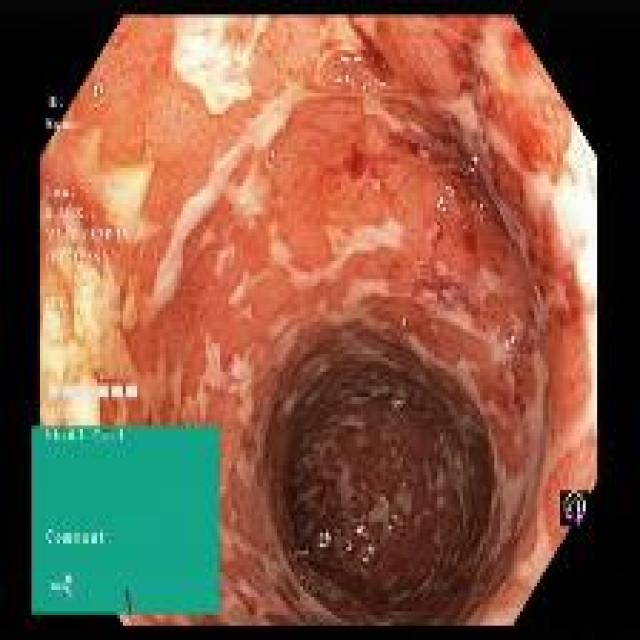ulcerative-colitis: (41, 19, 595, 622)
